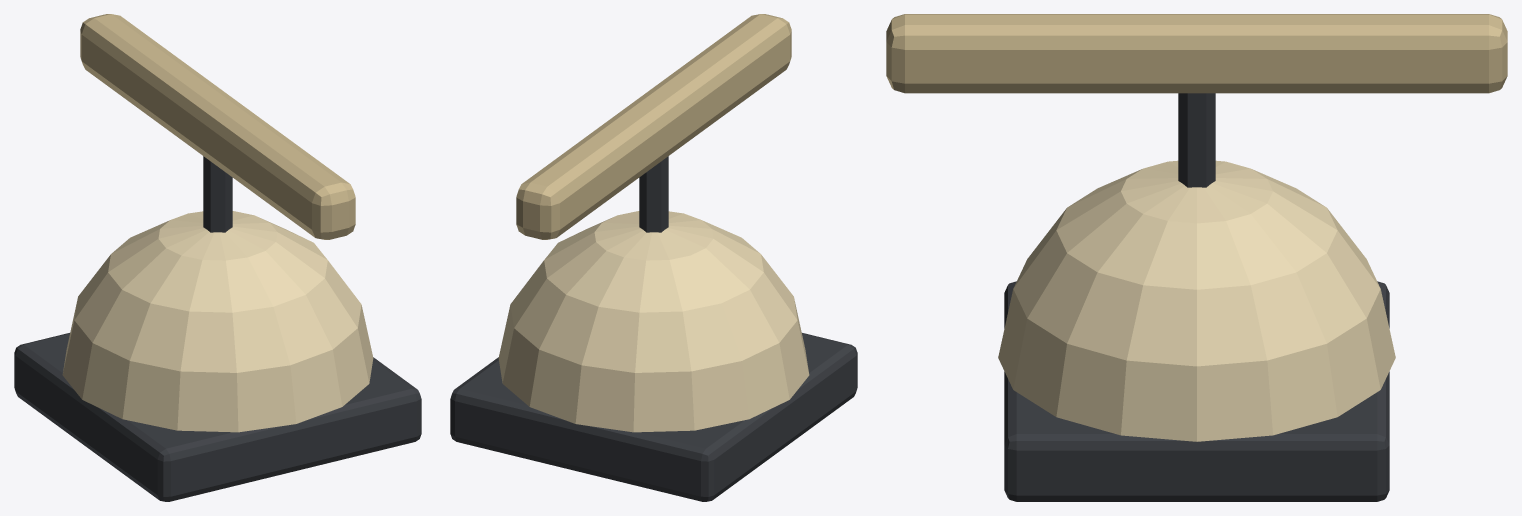
File: radar-mk1.glb
3 renders of one model, left to right at view 1: azimuth 30°, elevation 25°; view 2: azimuth 150°, elevation 25°; view 3: azimuth 270°, elevation 25°, orthographic. The views are drawn at different scales.
Visible parts, largest first — view 1: radar_mk1 body, radar arm body; view 2: radar_mk1 body, radar arm body; view 3: radar_mk1 body, radar arm body.
Boxes of the visible parts, x1=… form: radar_mk1 body: x1=14, y1=211, x2=421, y2=501; radar arm body: x1=80, y1=14, x2=355, y2=239; radar_mk1 body: x1=450, y1=211, x2=857, y2=501; radar arm body: x1=516, y1=14, x2=791, y2=239; radar_mk1 body: x1=998, y1=160, x2=1395, y2=501; radar arm body: x1=886, y1=14, x2=1507, y2=187.
Bounding box in the file's own units: 0.64 × 0.72 × 1.
